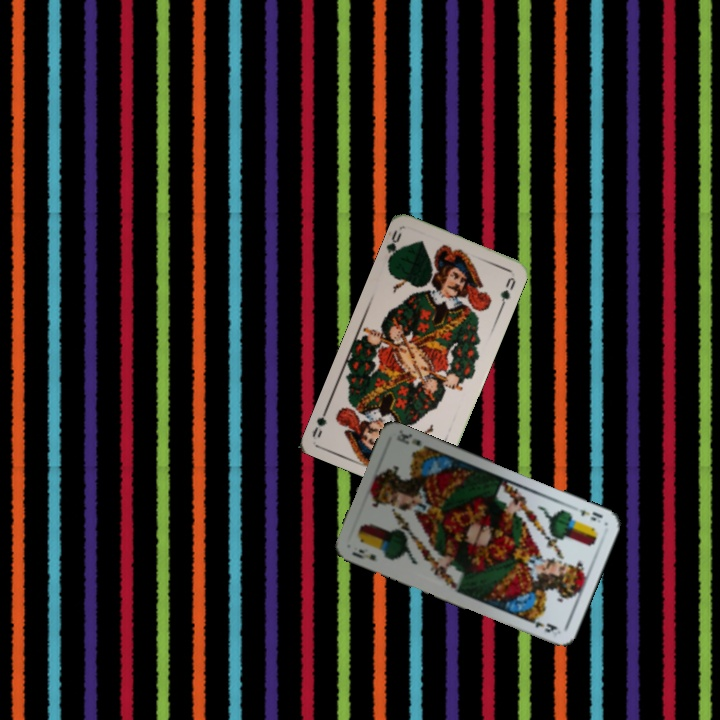EK: (575, 505, 605, 524), (348, 545, 379, 563)
GO: (383, 226, 406, 266)
